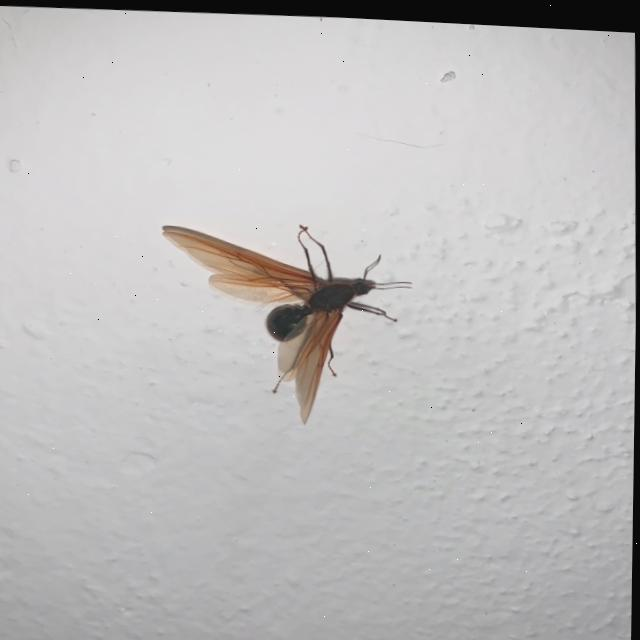Alive-Male-Alate: (159, 213, 417, 429)
